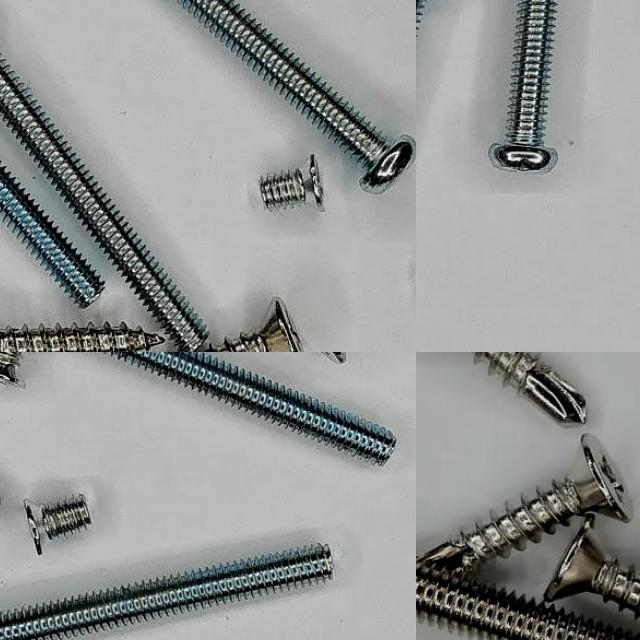Screw: (0, 53, 208, 352), (178, 0, 416, 193), (104, 352, 397, 465), (0, 545, 334, 640), (416, 435, 631, 574), (416, 568, 640, 640), (0, 162, 103, 306), (490, 0, 559, 172), (544, 516, 640, 614), (471, 352, 587, 423), (198, 298, 306, 352), (0, 323, 166, 352), (24, 496, 91, 556), (261, 154, 324, 210), (0, 352, 25, 386)
